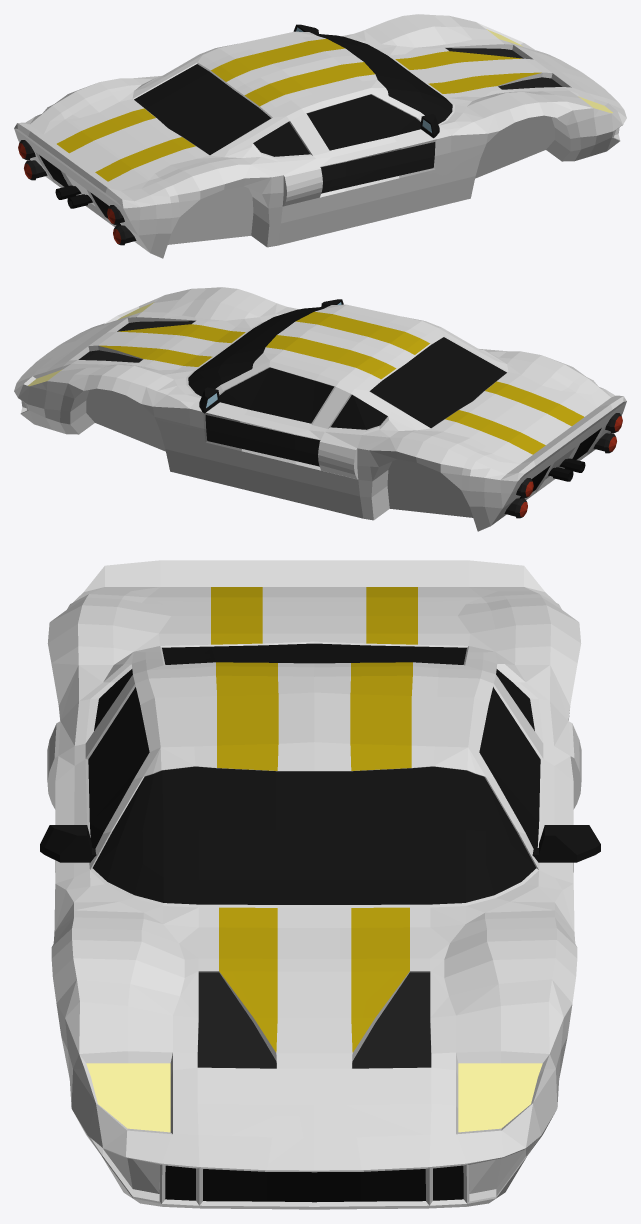
File: base_ford.glb
3 views of the same model, one above another, from view 1: azimuth 30°, elevation 25°; view 2: azimuth 150°, elevation 25°; view 3: azimuth 270°, elevation 25° (orthographic). The views are drawn at different scales.
Visible parts, largest first — view 1: base, windows, double_stribes, stripes, back_lights_outer, exaust, bumper, back_lights; view 2: base, windows, double_stribes, stripes, back_lights_outer, exaust, bumper, back_lights; view 3: base, windows, double_stribes, stripes, front_lights, bumper.
Part boxes in pixels (bbox=[...]): base: bbox=[14, 14, 626, 258]; windows: bbox=[134, 24, 452, 156]; double_stribes: bbox=[57, 38, 541, 181]; stripes: bbox=[320, 48, 562, 193]; back_lights_outer: bbox=[19, 140, 136, 245]; exaust: bbox=[55, 185, 92, 208]; bumper: bbox=[39, 155, 121, 225]; back_lights: bbox=[18, 143, 121, 243]; base: bbox=[14, 287, 626, 531]; windows: bbox=[188, 299, 506, 429]; double_stribes: bbox=[99, 311, 583, 454]; stripes: bbox=[78, 321, 320, 466]; back_lights_outer: bbox=[504, 413, 621, 518]; exaust: bbox=[548, 458, 585, 481]; bumper: bbox=[519, 428, 601, 498]; back_lights: bbox=[519, 416, 622, 516]; base: bbox=[47, 560, 581, 1209]; windows: bbox=[40, 643, 600, 904]; double_stribes: bbox=[211, 587, 417, 1052]; stripes: bbox=[197, 972, 431, 1068]; front_lights: bbox=[86, 1063, 542, 1132]; bumper: bbox=[165, 1165, 463, 1202].
Bounding box in the file's own units: 4.28 × 0.9184 × 1.97.
